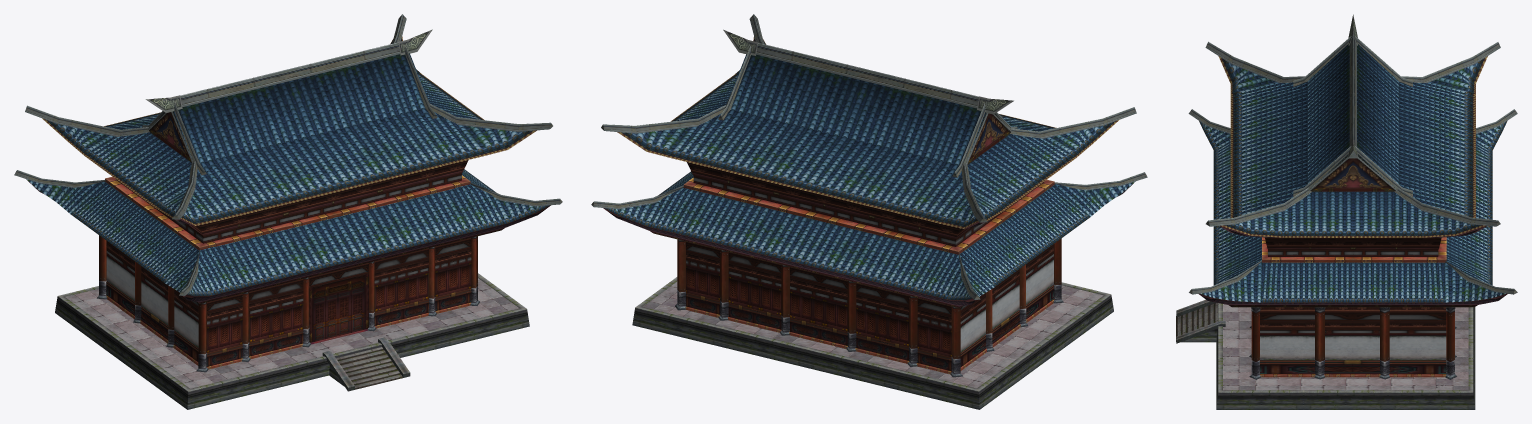
Rendered from Maincity06_Building_czf01_LOD1.FBX.
3 renders of one model, left to right at view 1: azimuth 30°, elevation 25°; view 2: azimuth 150°, elevation 25°; view 3: azimuth 270°, elevation 25°, orthographic. The views are drawn at different scales.
Parts seen in each view (by area): view 1: Maincity06_Building_czf01_01_LOD1, Maincity06_Building_czf01_02_LOD1; view 2: Maincity06_Building_czf01_01_LOD1, Maincity06_Building_czf01_02_LOD1; view 3: Maincity06_Building_czf01_01_LOD1, Maincity06_Building_czf01_02_LOD1.
Boxes of the visible parts, x1,y1,x2,y2 form: Maincity06_Building_czf01_01_LOD1: [14, 14, 562, 409]; Maincity06_Building_czf01_02_LOD1: [106, 173, 504, 389]; Maincity06_Building_czf01_01_LOD1: [591, 14, 1147, 409]; Maincity06_Building_czf01_02_LOD1: [650, 175, 1053, 371]; Maincity06_Building_czf01_01_LOD1: [1176, 14, 1517, 409]; Maincity06_Building_czf01_02_LOD1: [1176, 249, 1477, 374].
Bounding box in the file's own units: 2735 × 1721 × 2159.
